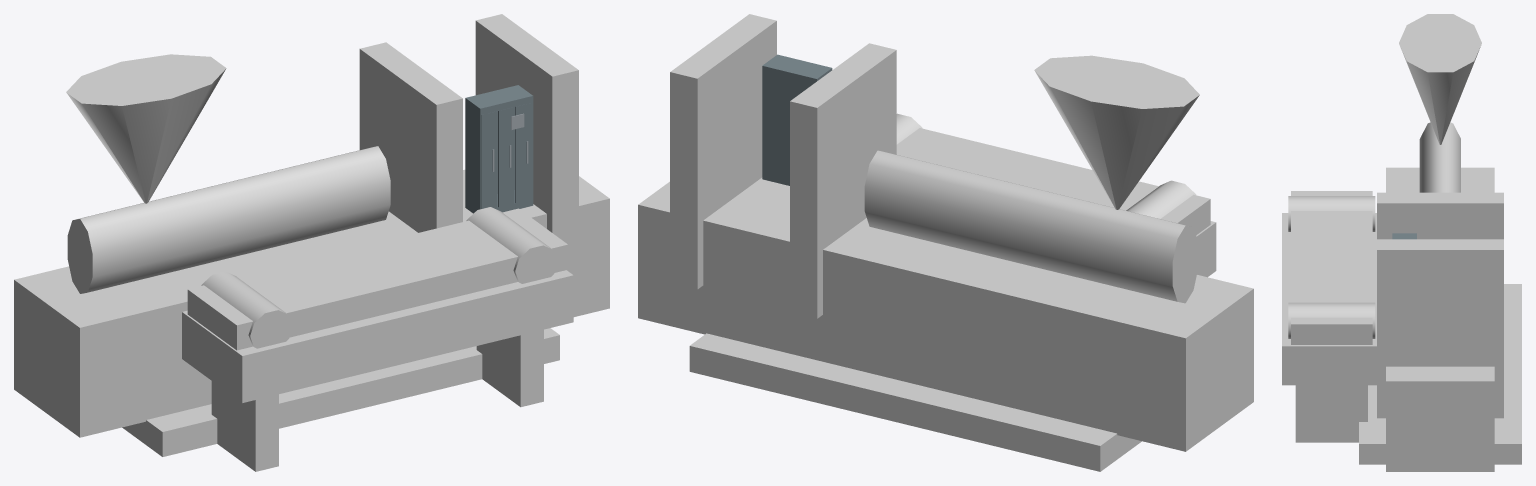
3 renders of one model, left to right at view 1: azimuth 30°, elevation 25°; view 2: azimuth 150°, elevation 25°; view 3: azimuth 270°, elevation 25°, orthographic. The views are drawn at different scales.
Visible parts, largest first — view 1: housing_3, screw_barrel_4, conveyor_frame_9, belt_8, clamp_platen_6, hopper_5, clamp_platen_7, base_frame_1, support_11, support_13, roller_10, roller_12 (+5 smaller); view 2: housing_3, screw_barrel_4, base_frame_1, clamp_platen_7, clamp_platen_6, hopper_5, belt_8, g0.011, roller_10, g0.008, conveyor_frame_9; view 3: clamp_platen_7, housing_3, belt_8, hopper_5, clamp_platen_6, conveyor_frame_9, base_frame_1, support_13, screw_barrel_4, roller_12, roller_10.
Boxes of the visible parts, <box> form: housing_3: <box>14,169,609,437</box>; screw_barrel_4: <box>67,146,390,293</box>; conveyor_frame_9: <box>182,270,573,402</box>; belt_8: <box>187,208,567,350</box>; clamp_platen_6: <box>359,42,462,232</box>; hopper_5: <box>66,54,226,203</box>; clamp_platen_7: <box>475,14,578,275</box>; base_frame_1: <box>122,328,559,456</box>; support_11: <box>211,381,278,471</box>; support_13: <box>476,329,543,407</box>; roller_10: <box>201,271,292,348</box>; roller_12: <box>466,207,557,283</box>; housing_3: <box>638,177,1253,451</box>; screw_barrel_4: <box>864,150,1198,303</box>; base_frame_1: <box>689,333,1141,471</box>; clamp_platen_7: <box>670,14,776,289</box>; clamp_platen_6: <box>790,43,896,318</box>; hopper_5: <box>1034,55,1199,209</box>; belt_8: <box>896,128,1210,235</box>; g0.011: <box>762,66,817,185</box>; roller_10: <box>1126,180,1196,218</box>; g0.008: <box>762,55,832,83</box>; conveyor_frame_9: <box>1196,221,1216,277</box>; clamp_platen_7: <box>1377,239,1503,418</box>; housing_3: <box>1386,167,1494,471</box>; belt_8: <box>1291,191,1372,344</box>; hopper_5: <box>1399,14,1481,144</box>; clamp_platen_6: <box>1377,192,1503,239</box>; conveyor_frame_9: <box>1282,213,1376,385</box>; base_frame_1: <box>1359,284,1521,464</box>; support_13: <box>1295,385,1367,442</box>; screw_barrel_4: <box>1419,122,1460,192</box>; roller_12: <box>1288,302,1375,338</box>; roller_10: <box>1288,196,1375,231</box>.
Size of the model in its own units: 4 by 2.4 by 1.9.
